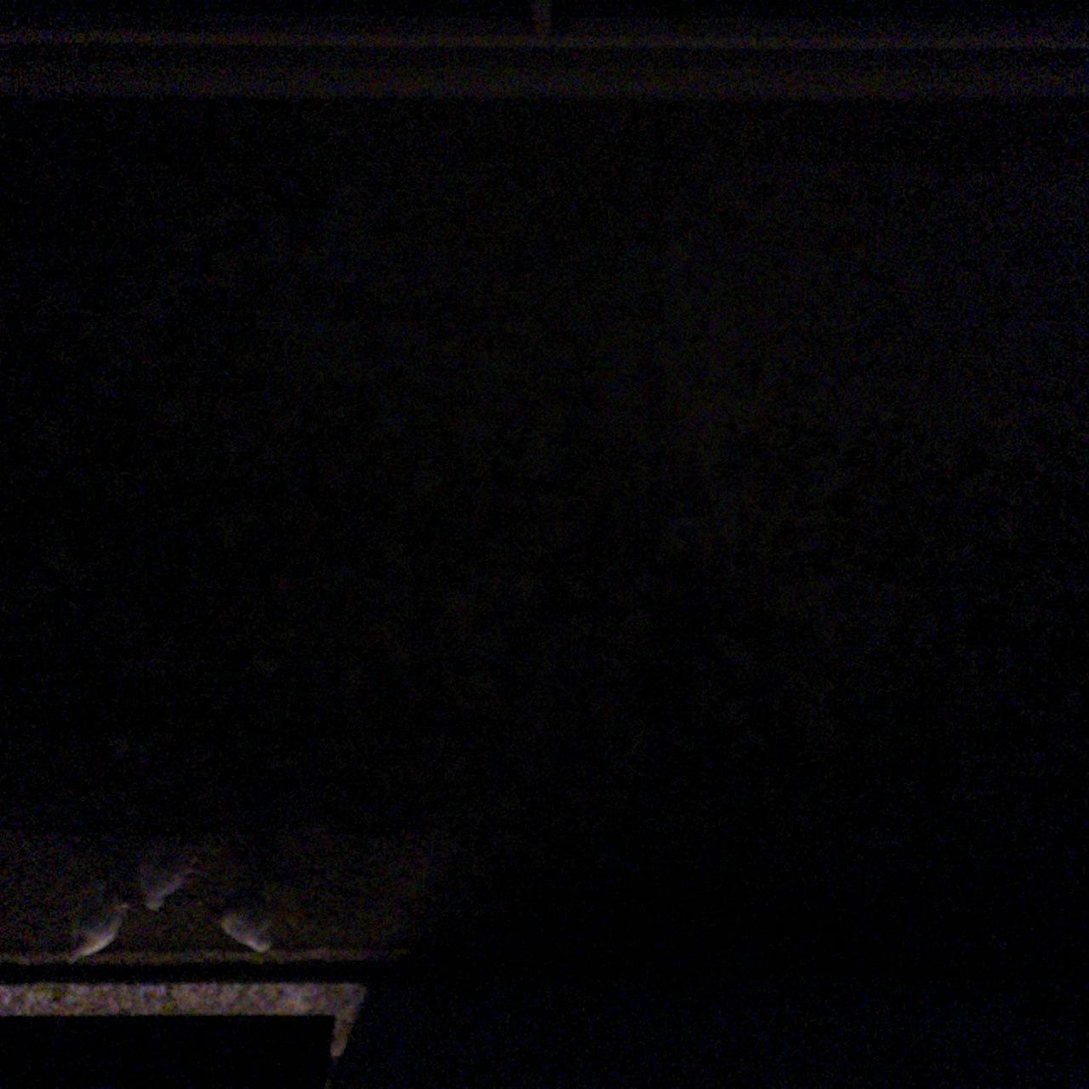chicken: (60, 891, 129, 968), (133, 838, 199, 913), (218, 901, 273, 956)
